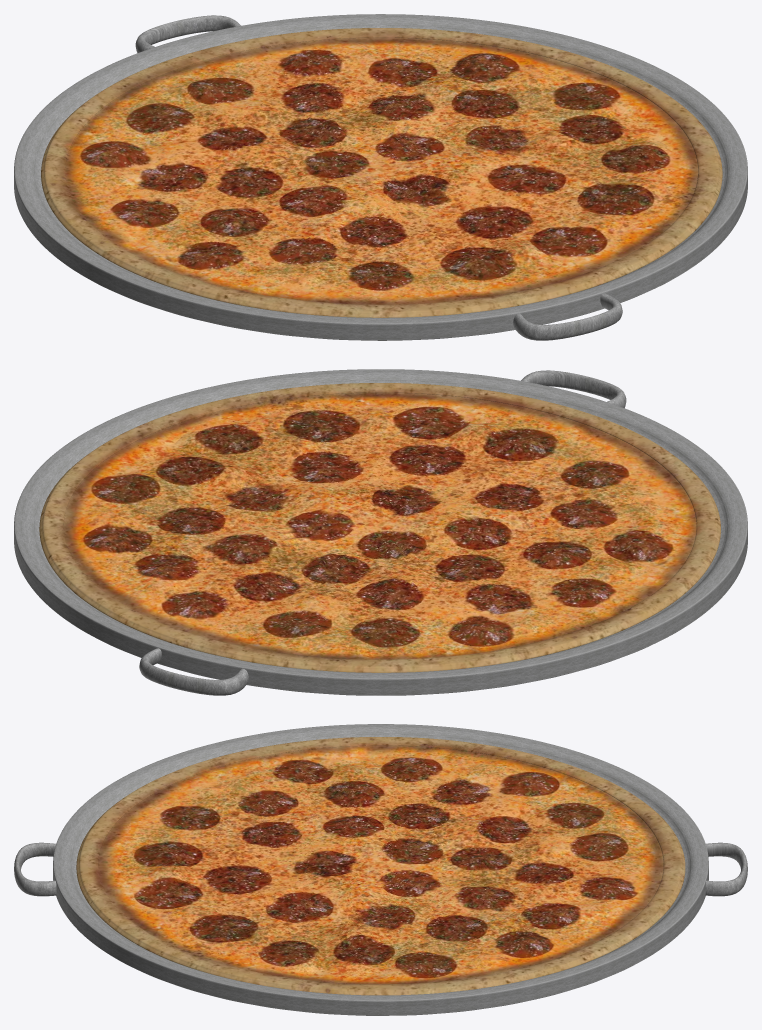
The model's file is pizza.glb.
The picture shows the model from 3 angles, top to bottom: view 1: azimuth 30°, elevation 25°; view 2: azimuth 150°, elevation 25°; view 3: azimuth 270°, elevation 25°; orthographic projection. The views are drawn at different scales.
Visible parts, largest first — view 1: Pizzaobjcleanermaterialmergergles; view 2: Pizzaobjcleanermaterialmergergles; view 3: Pizzaobjcleanermaterialmergergles.
Boxes of the visible parts, bbox=[...] form: Pizzaobjcleanermaterialmergergles: bbox=[14, 14, 747, 340]; Pizzaobjcleanermaterialmergergles: bbox=[14, 369, 747, 695]; Pizzaobjcleanermaterialmergergles: bbox=[14, 724, 747, 1015].
Size of the model in its own units: 1.99 by 0.0641 by 2.23.
Materials: 2 (2 with a texture image).
